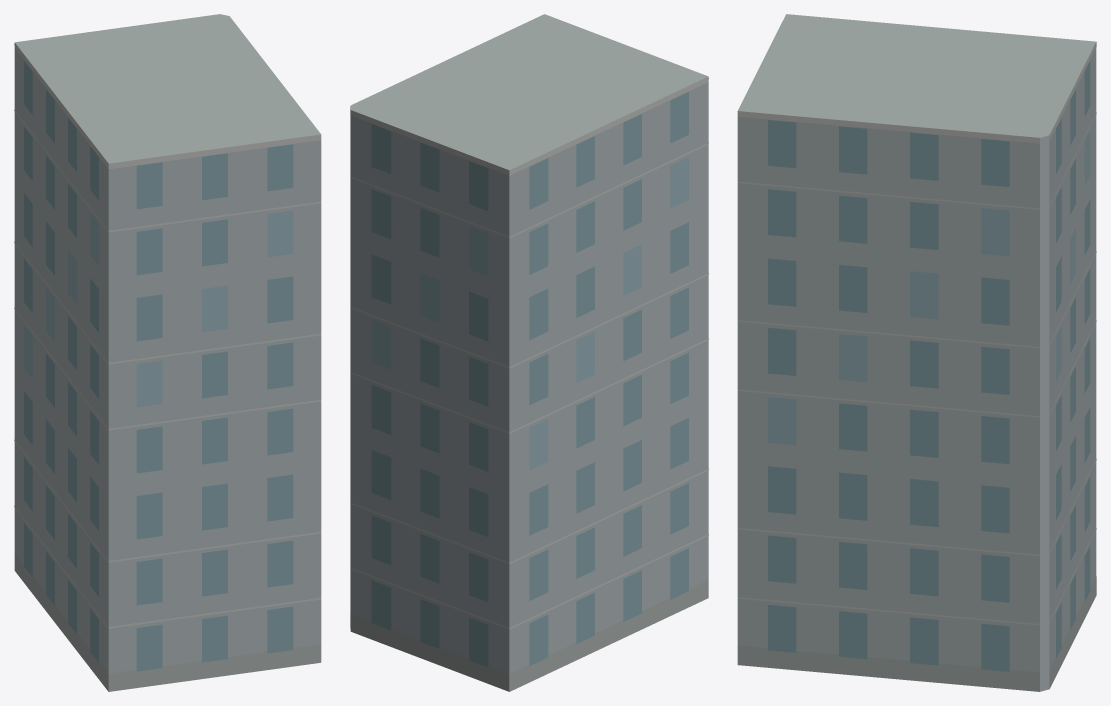
File: survey-upis-33006345.glb
3 views of the same model, side by side, from view 1: azimuth 30°, elevation 25°; view 2: azimuth 150°, elevation 25°; view 3: azimuth 270°, elevation 25° (orthographic). The views are drawn at different scales.
Parts seen in each view (by area): view 1: survey-upis-33006345.tmp; view 2: survey-upis-33006345.tmp; view 3: survey-upis-33006345.tmp.
Part boxes in pixels (<box>): survey-upis-33006345.tmp: <box>14,14,321,691</box>; survey-upis-33006345.tmp: <box>350,14,708,691</box>; survey-upis-33006345.tmp: <box>737,14,1096,691</box>.
Bounding box in the file's own units: 11.17 × 23.25 × 13.67.
